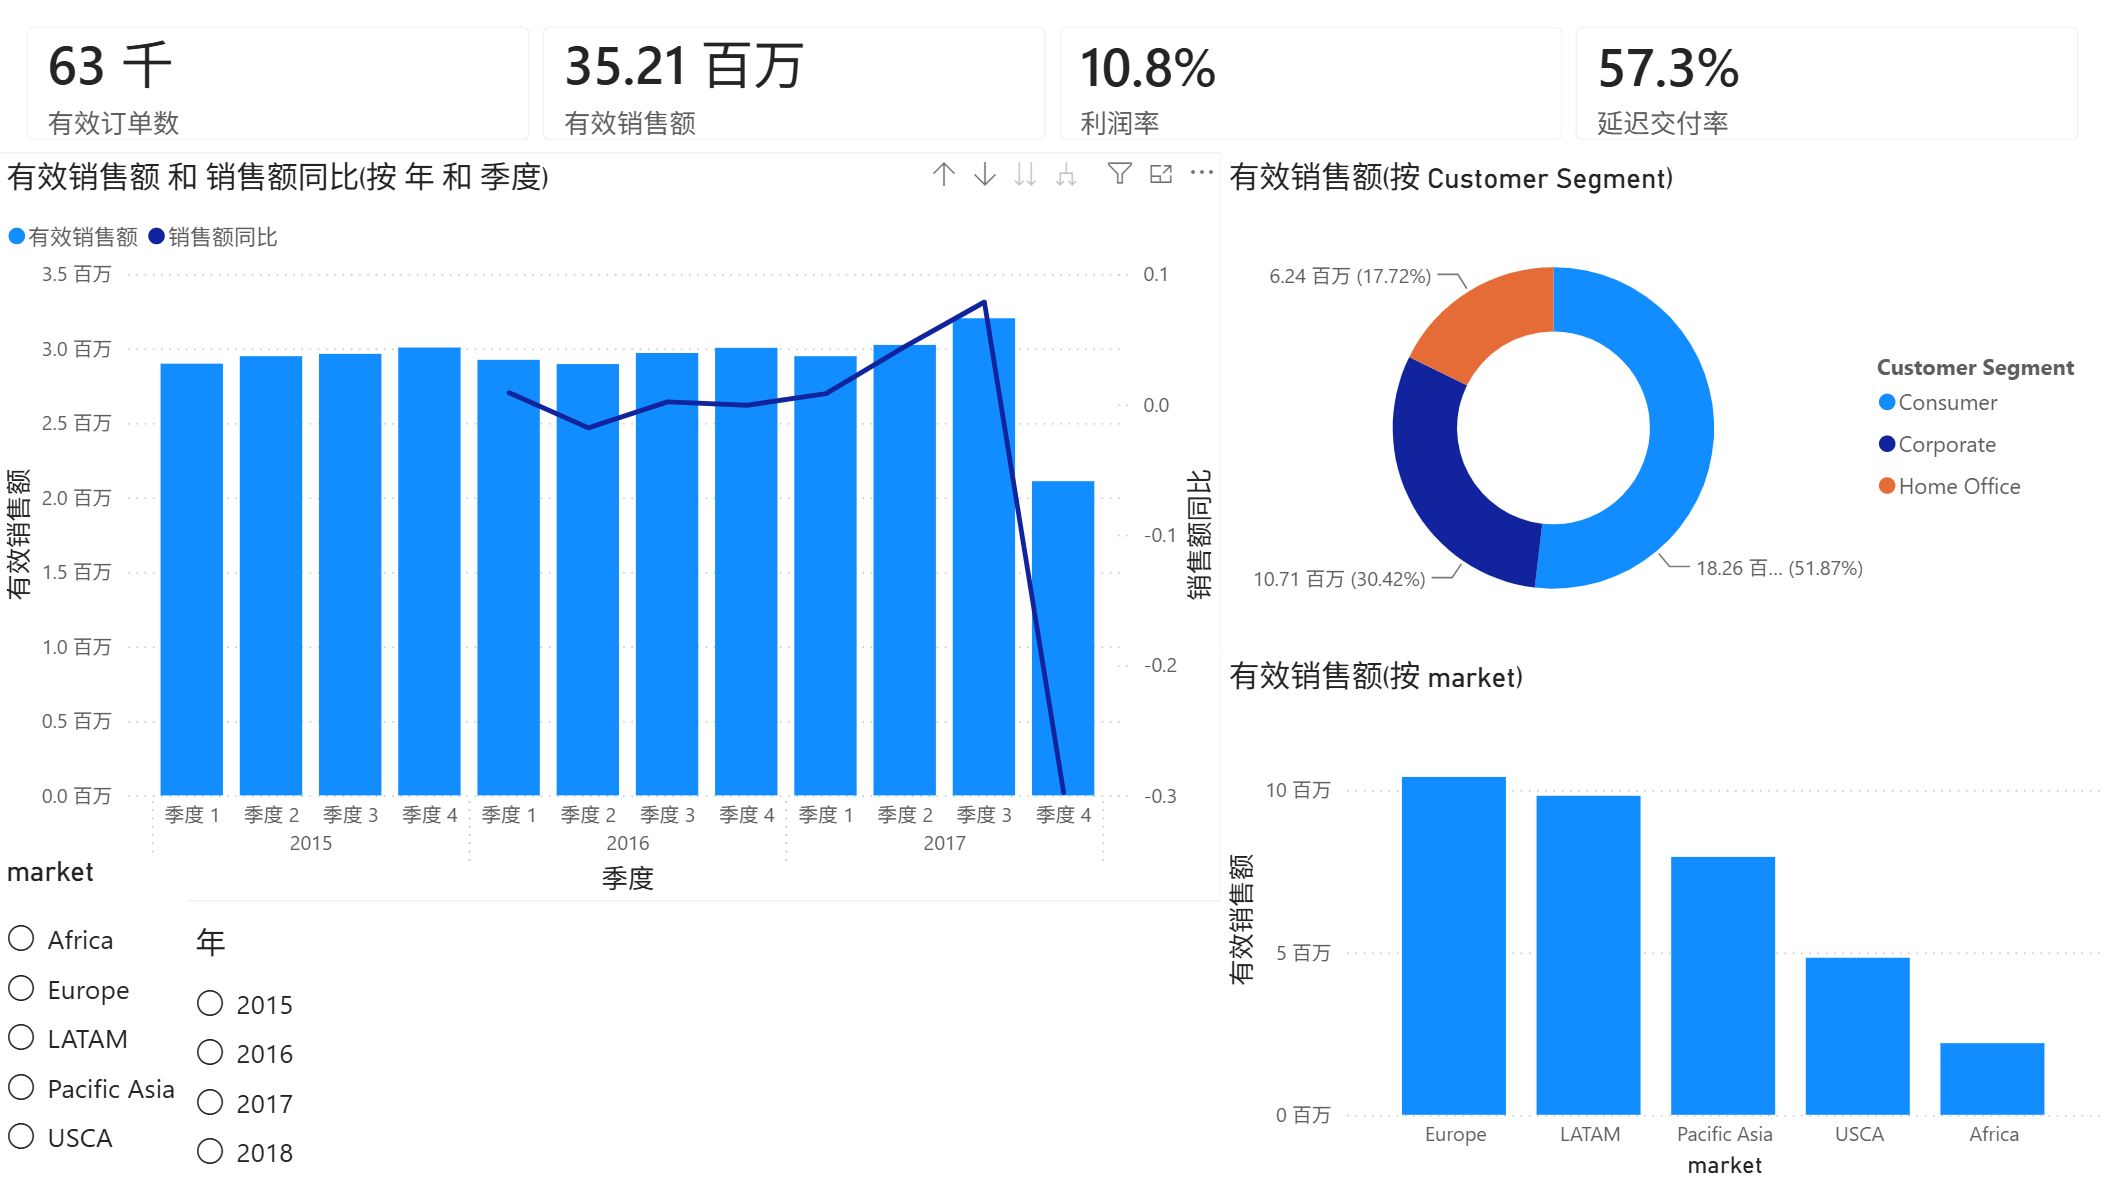

The page's visual inventory and layout, read from the dashboard file:
{"tool":"powerbi","page":{"name":"第 1 页","canvas":[1280,720],"ordinal":0},"visuals":[{"type":"cardVisual","fields":{"Data":["fact_order_items.有效订单数","fact_order_items.有效销售额","fact_order_items.利润率","fact_order_items.延迟交付率"]},"box":[0,0,1280,103.6],"z":0},{"type":"lineClusteredColumnComboChart","fields":{"Category":["dim_date.year_month.变体.日期层次结构.年","dim_date.year_month.变体.日期层次结构.季度"],"Y":["fact_order_items.有效销售额"],"Y2":["fact_order_items.销售额同比"]},"box":[0,93.6,740.9,453.6],"z":1000},{"type":"donutChart","fields":{"Category":["dim_customer.Customer Segment"],"Y":["fact_order_items.有效销售额"]},"box":[740.9,93.6,539.1,227.3],"z":2000},{"type":"columnChart","fields":{"Category":["fact_order_items.market"],"Y":["fact_order_items.有效销售额"]},"box":[740.9,320.9,539.1,237.3],"z":3000},{"type":"listSlicer","fields":{"Values":["fact_order_items.market"]},"box":[0,519.1,114.5,200.9],"z":4000},{"type":"listSlicer","fields":{"Values":["dim_date.year_month.变体.日期层次结构.年"]},"box":[114.5,558.2,104.5,161.8],"z":5000}]}

Visuals, with their boxes in screenshot pixels (x1, y1, x2, y2), scaled from the page's 1280x720 canvas onto the 2106x1184 screenshot:
cardVisual - fact_order_items.有效订单数 x fact_order_items.有效销售额: region(0, 0, 2105, 170)
lineClusteredColumnComboChart - dim_date.year_month.变体.日期层次结构.年 x dim_date.year_month.变体.日期层次结构.季度: region(0, 154, 1219, 900)
donutChart - dim_customer.Customer Segment x fact_order_items.有效销售额: region(1219, 154, 2105, 528)
columnChart - fact_order_items.market x fact_order_items.有效销售额: region(1219, 528, 2105, 918)
listSlicer - fact_order_items.market: region(0, 854, 188, 1183)
listSlicer - dim_date.year_month.变体.日期层次结构.年: region(188, 918, 360, 1183)
